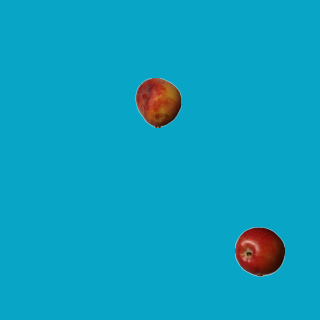Apple Braeburn: (234, 226, 284, 276)
Peach: (133, 77, 183, 127)
